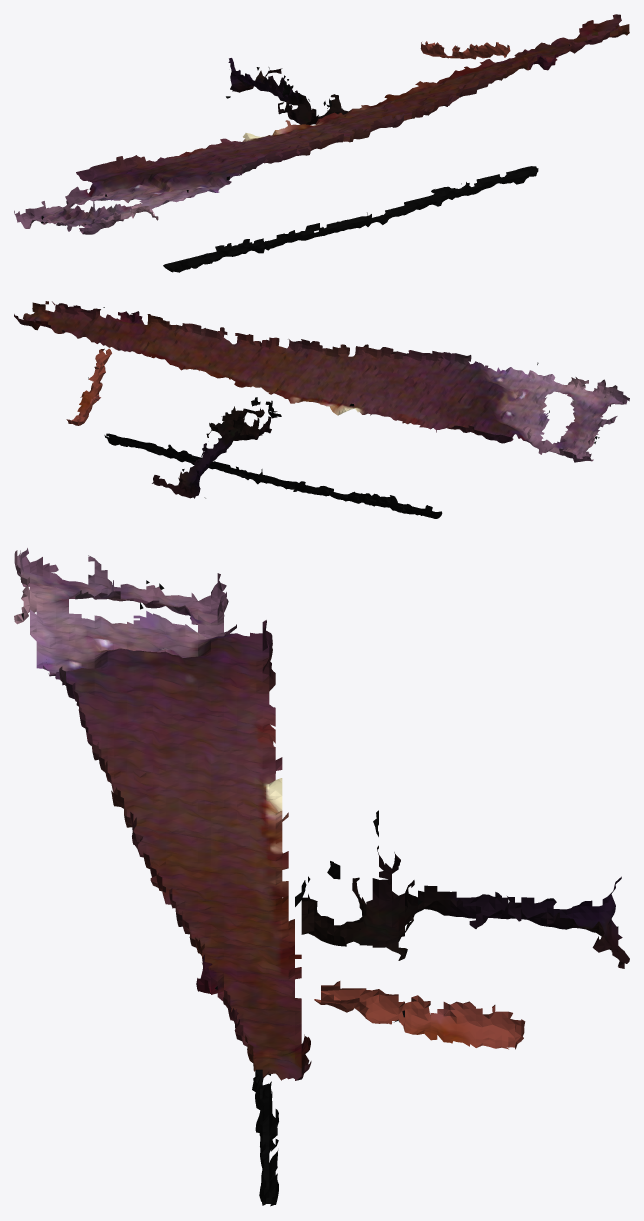
Rendered from saw.obj.
The picture shows the model from 3 angles, top to bottom: view 1: azimuth 30°, elevation 25°; view 2: azimuth 150°, elevation 25°; view 3: azimuth 270°, elevation 25°; orthographic projection. The views are drawn at different scales.
Size of the model in its own units: 30.07 by 6.84 by 14.66.
1 material, 1 textured.
